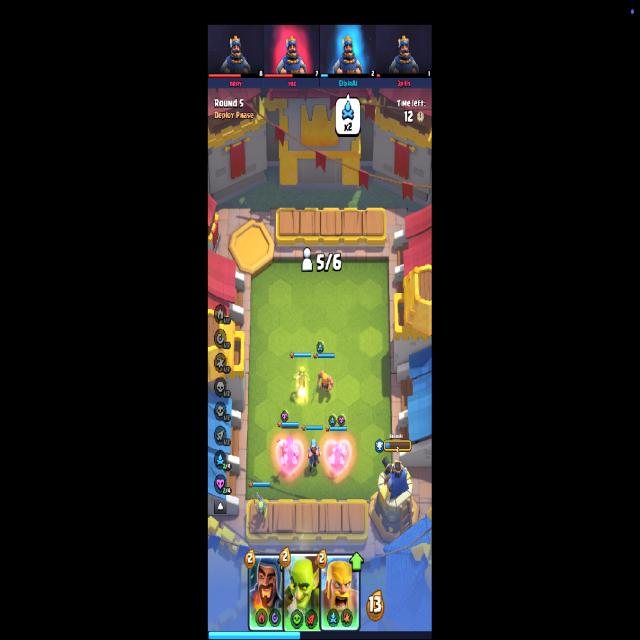archer_queen: (331, 443, 345, 473)
barbarian: (312, 370, 334, 398)
card_barbarian: (321, 552, 361, 632)
card_goblin: (284, 550, 322, 633)
goblin: (292, 366, 310, 391)
spear_goblin: (252, 491, 269, 519)
witch: (277, 436, 299, 468)
wizard: (247, 552, 285, 632), (307, 439, 321, 473)
